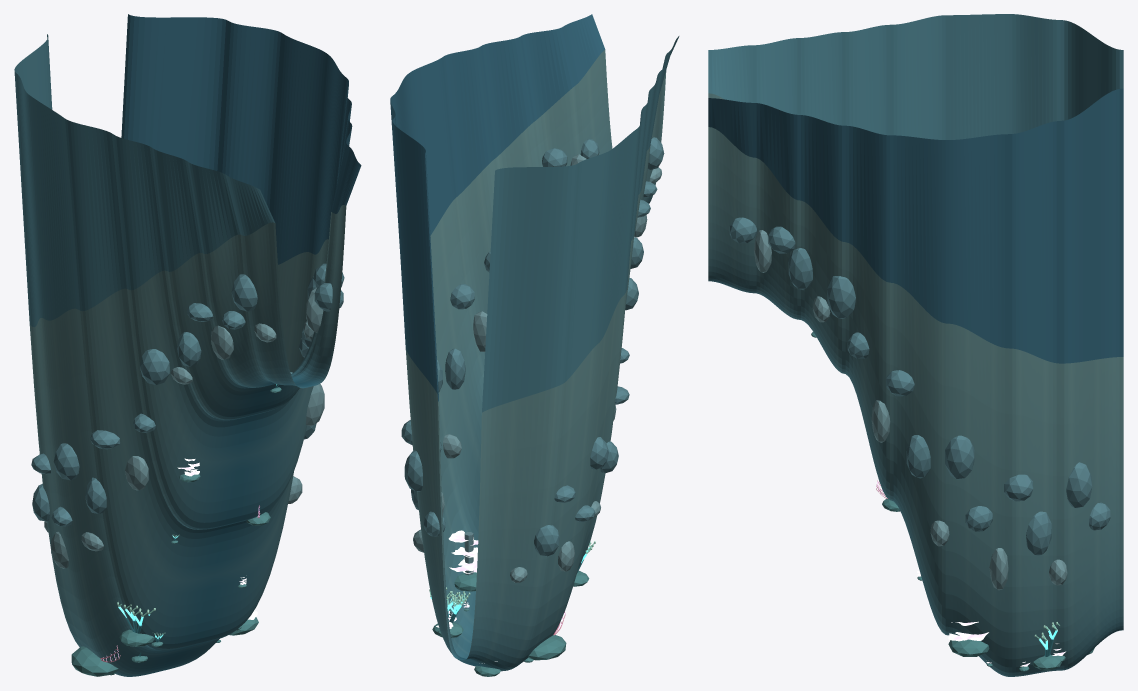
Rendered from trench_shell.glb.
The picture shows the model from 3 angles, left to right: view 1: azimuth 30°, elevation 25°; view 2: azimuth 150°, elevation 25°; view 3: azimuth 270°, elevation 25°; orthographic projection. The views are drawn at different scales.
Parts seen in each view (by area): view 1: trench_shell; view 2: trench_shell; view 3: trench_shell.
Part boxes in pixels (box(x1,y1,x2,y2)): trench_shell: box(14, 14, 361, 676); trench_shell: box(390, 14, 679, 676); trench_shell: box(708, 14, 1123, 676).
Bounding box in the file's own units: 105 × 229 × 146.
